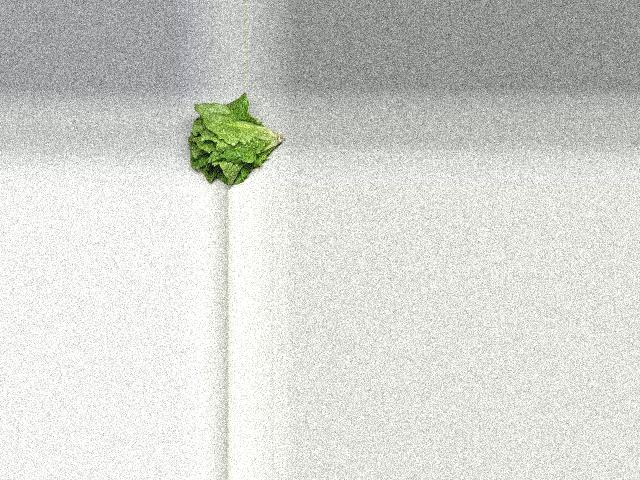lettuce: (187, 93, 285, 186)
